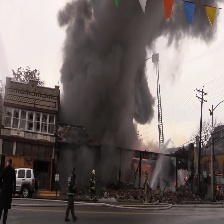fire: (131, 147, 150, 175)
